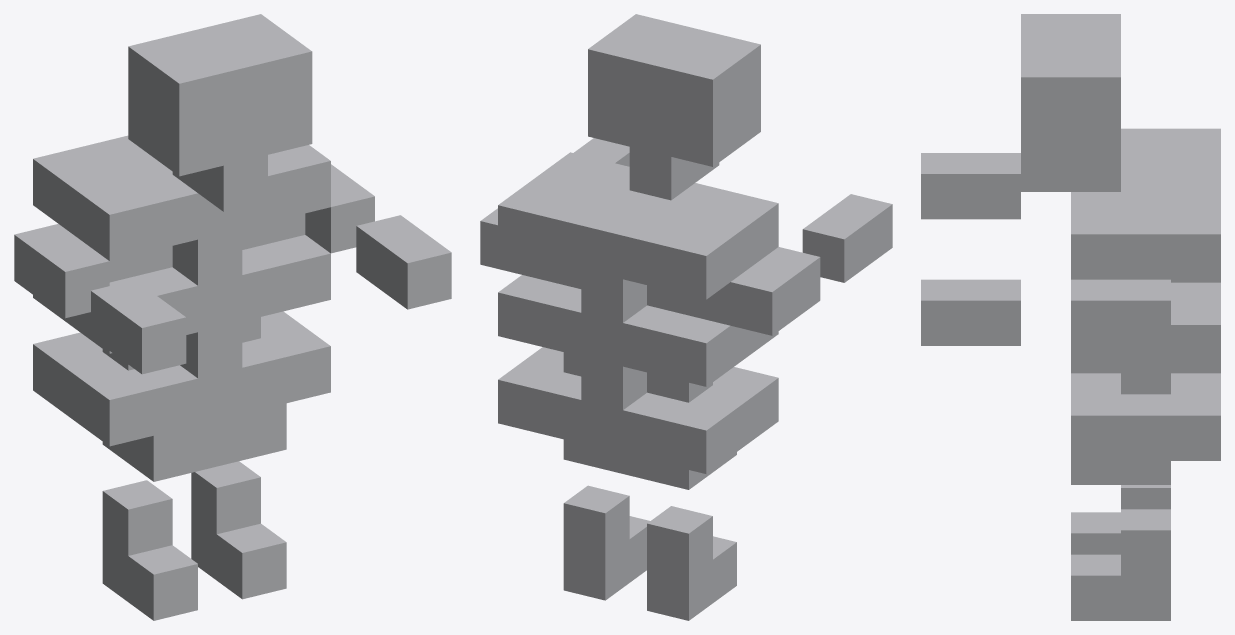
File: skeleton_idle_0.obj
3 views of the same model, side by side, from view 1: azimuth 30°, elevation 25°; view 2: azimuth 150°, elevation 25°; view 3: azimuth 270°, elevation 25° (orthographic). The views are drawn at different scales.
Size of the model in its own units: 0.7 by 1.2 by 0.6.
1 material, 1 textured.
